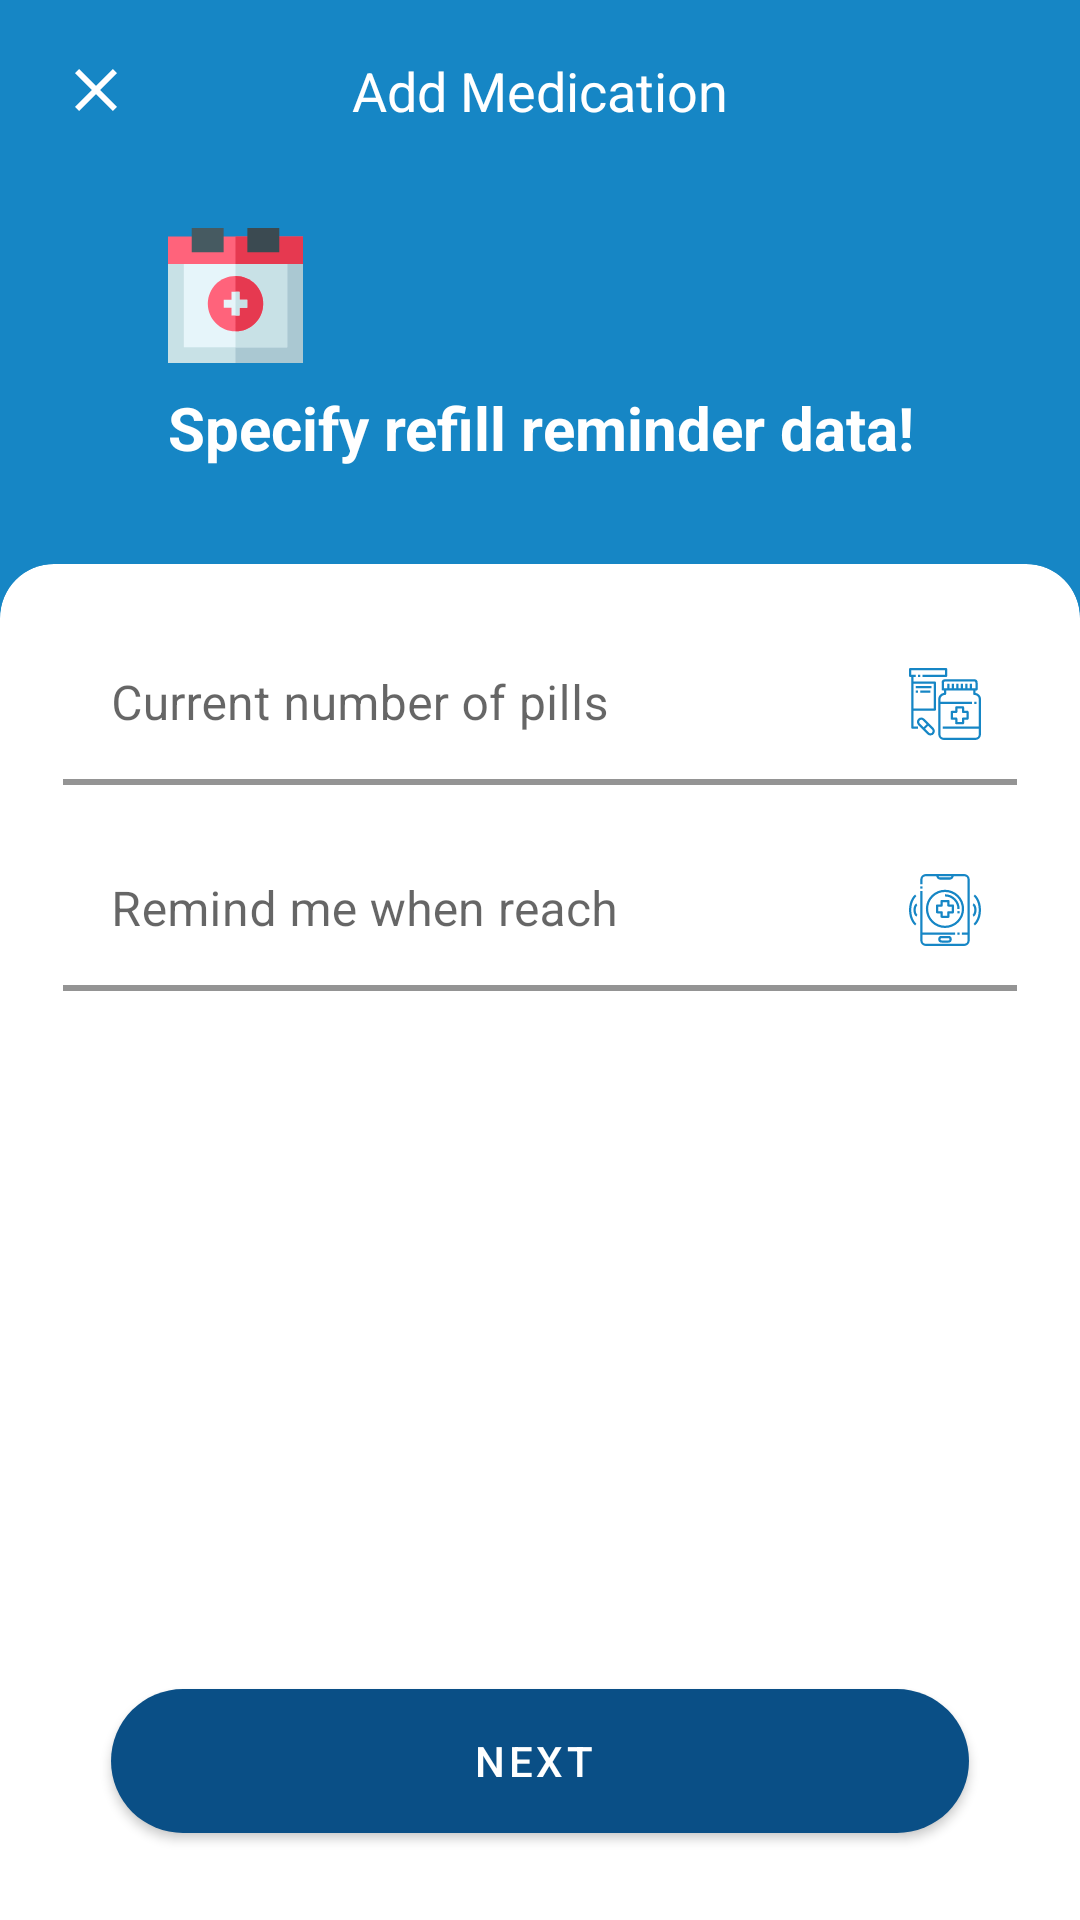

Screen size 1080 x 1920. Icon name, then its box in pixels as (x1, y1, x2, y2):
Close: (75, 69, 117, 111)
